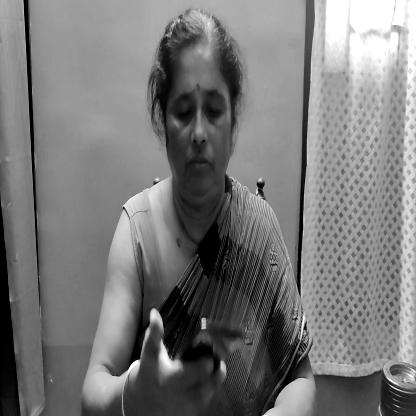Normal: (151, 17, 243, 212)
